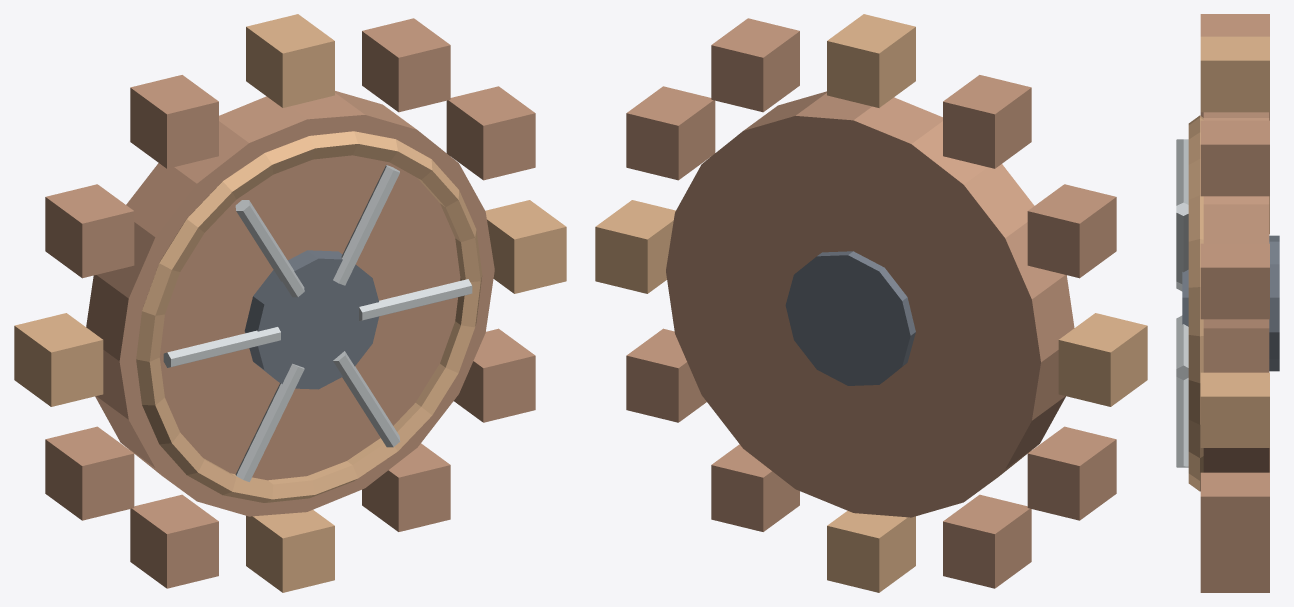
The model's file is engranaje_gigante.glb.
3 renders of one model, left to right at view 1: azimuth 30°, elevation 25°; view 2: azimuth 150°, elevation 25°; view 3: azimuth 270°, elevation 25°, orthographic. The views are drawn at different scales.
Parts seen in each view (by area): view 1: engranaje_gigante; view 2: engranaje_gigante; view 3: engranaje_gigante.
Boxes of the visible parts, x1=… form: engranaje_gigante: x1=14, y1=14, x2=566, y2=592; engranaje_gigante: x1=595, y1=14, x2=1147, y2=592; engranaje_gigante: x1=1176, y1=14, x2=1279, y2=592.
Bounding box in the file's own units: 4.45 × 4.45 × 0.8163.
